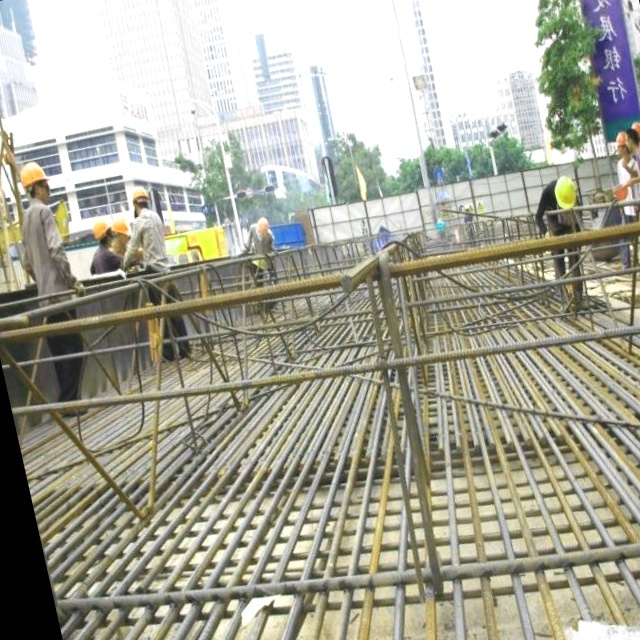Con_Casco: (18, 157, 55, 206), (552, 175, 581, 214)
